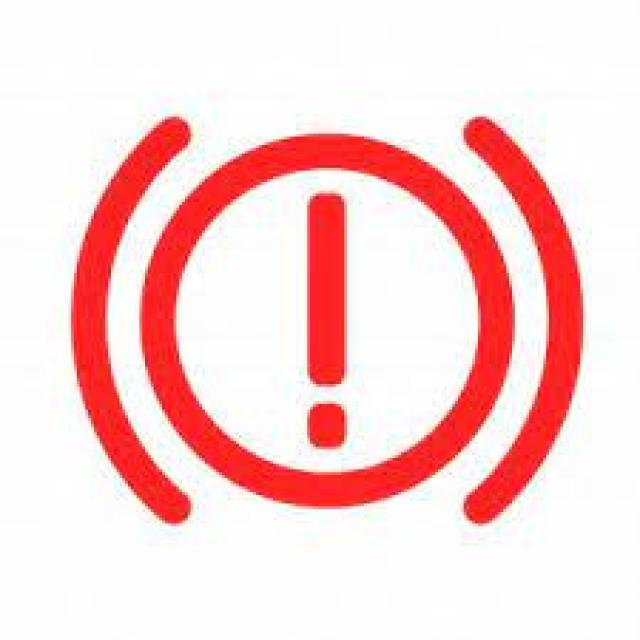kontrolka: (57, 115, 590, 528)
